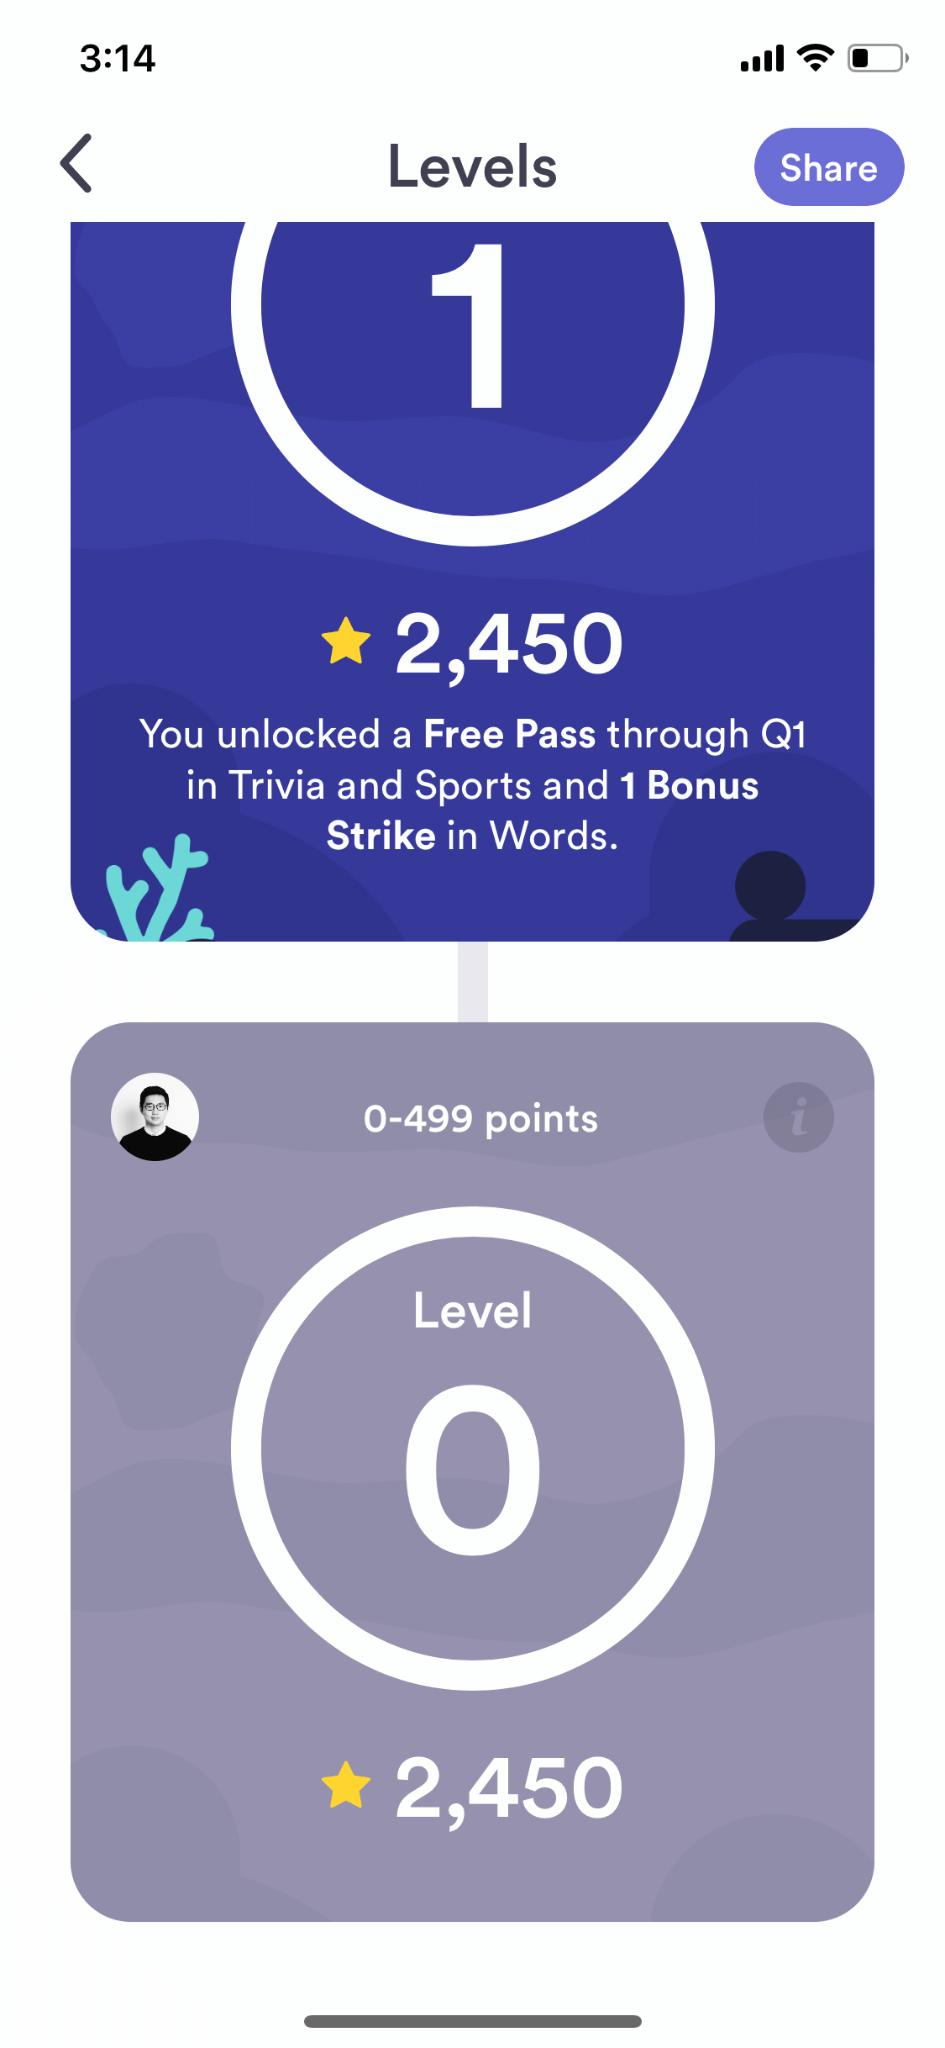Buttons: (749, 115, 912, 210), (33, 115, 133, 206), (751, 1074, 843, 1162)
